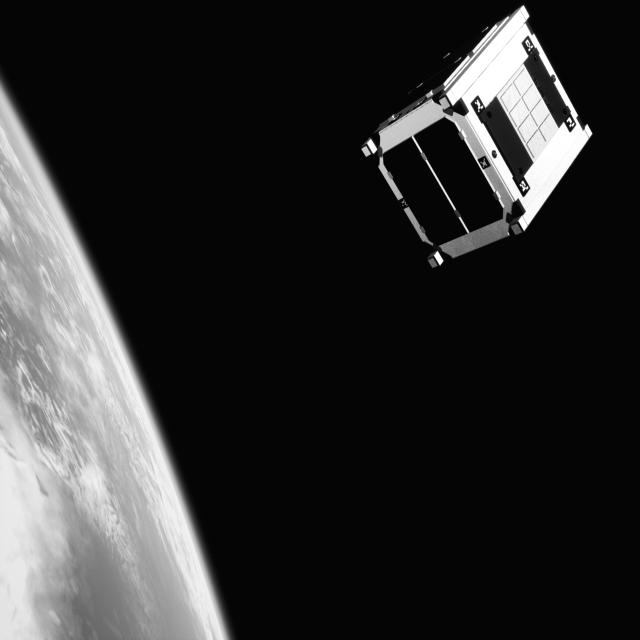medium_debris: (352, 2, 593, 270)
